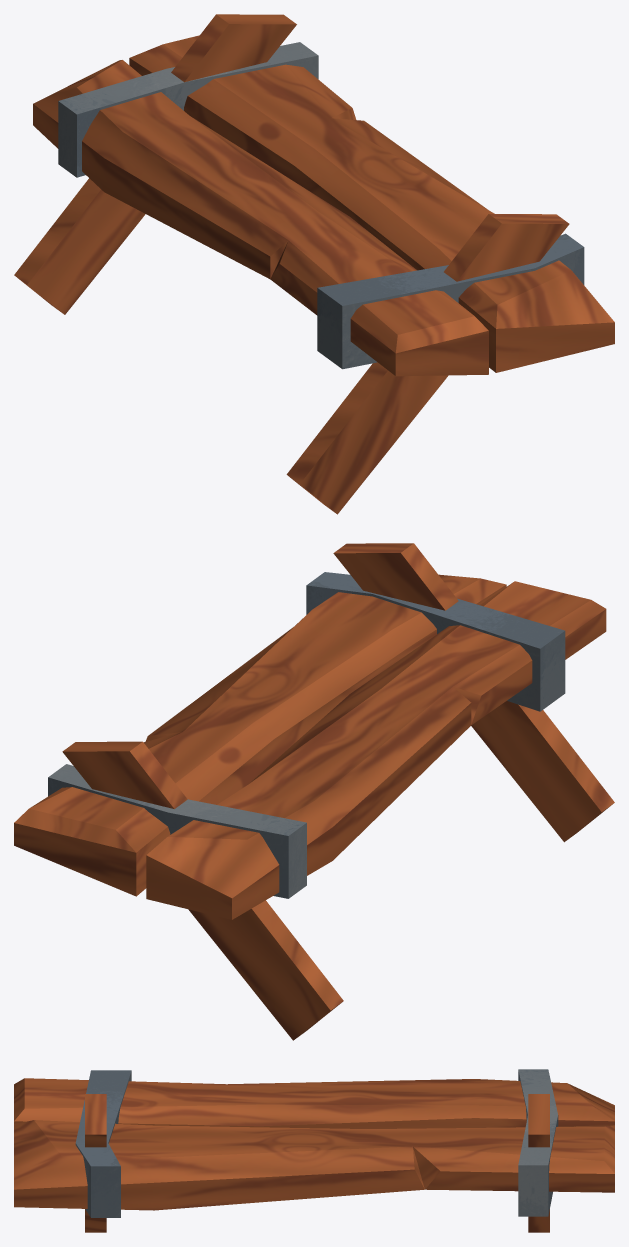
The model's file is SM_Shelf.fbx.
3 renders of one model, top to bottom at view 1: azimuth 30°, elevation 25°; view 2: azimuth 150°, elevation 25°; view 3: azimuth 270°, elevation 25°, orthographic. The views are drawn at different scales.
Visible parts, largest first — view 1: SM_Shelf; view 2: SM_Shelf; view 3: SM_Shelf.
Boxes of the visible parts, <box> form: SM_Shelf: <box>14,14,614,514</box>; SM_Shelf: <box>14,543,614,1040</box>; SM_Shelf: <box>14,1069,614,1232</box>.
Size of the model in its own units: 81.05 by 67.46 by 180.
